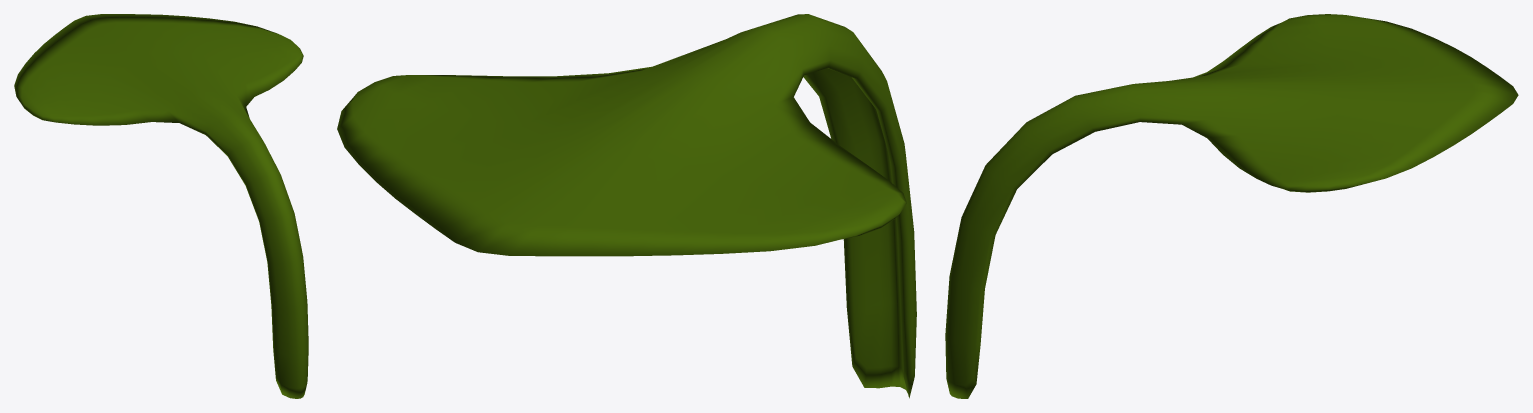
The model's file is Tallplant.fbx.
The picture shows the model from 3 angles, left to right: view 1: azimuth 30°, elevation 25°; view 2: azimuth 150°, elevation 25°; view 3: azimuth 270°, elevation 25°; orthographic projection. The views are drawn at different scales.
Visible parts, largest first — view 1: Cube; view 2: Cube; view 3: Cube.
Part boxes in pixels (<box>): Cube: <box>14,14,308,398</box>; Cube: <box>337,14,916,398</box>; Cube: <box>945,14,1518,398</box>.
Bounding box in the file's own units: 341 × 284 × 476.
